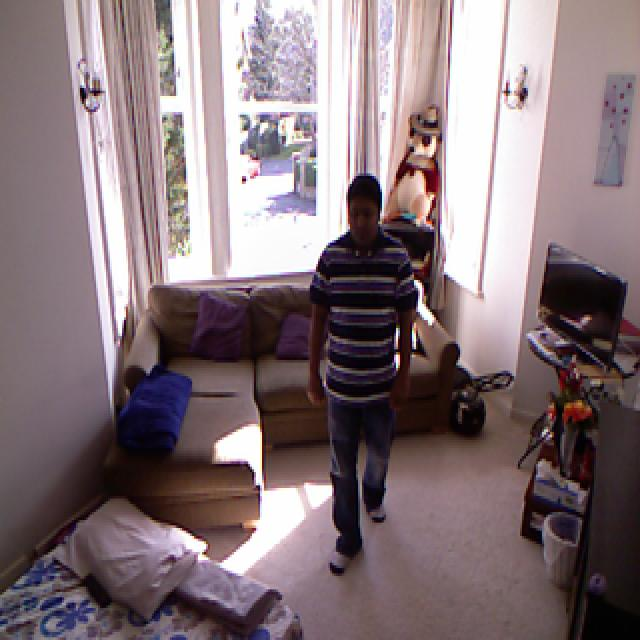standing: (308, 176, 426, 561)
